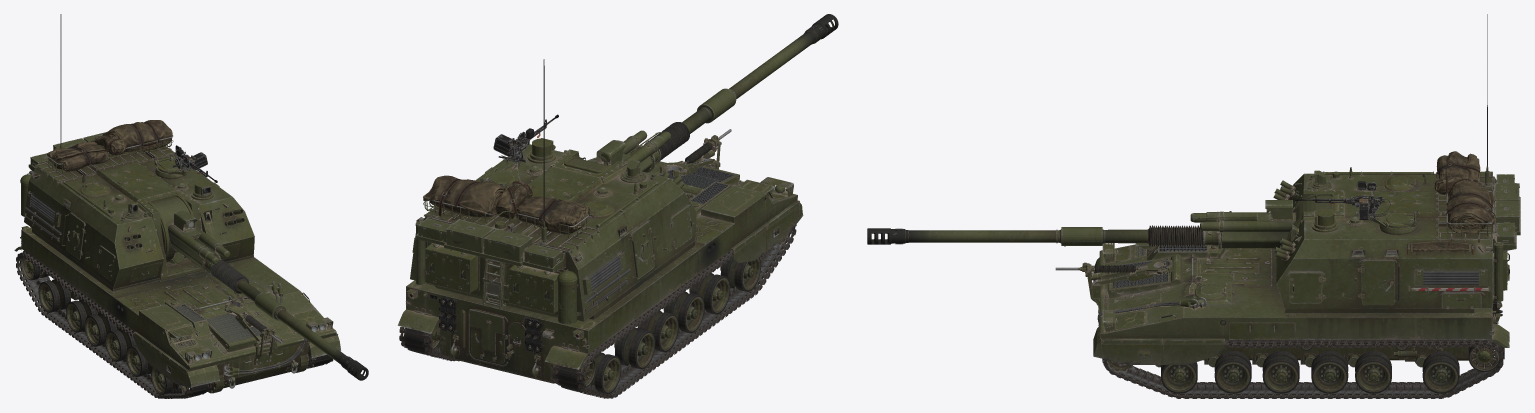
Rendered from PLZ05.obj.
3 renders of one model, left to right at view 1: azimuth 30°, elevation 25°; view 2: azimuth 150°, elevation 25°; view 3: azimuth 270°, elevation 25°, orthographic. The views are drawn at different scales.
Parts seen in each view (by area): view 1: vehicle#bone_turret_24, vehicle#x_root_103, vehicle#track_r_100, vehicle#bone_gun_28, vehicle#gun_barrel_30, vehicle#hatch_02_70, vehicle#ex_decor_l_09_25, vehicle#ex_decor_r_09_33, vehicle#ex_armor_01_92, vehicle#wheel_r_06_12, vehicle#wheel_r_04_23, vehicle#wheel_r_03_16 (+20 smaller); view 2: vehicle#bone_turret_24, vehicle#x_root_103, vehicle#track_r_100, vehicle#gun_barrel_30, vehicle#ex_decor_l_09_25, vehicle#ex_armor_l_02_45, vehicle#bone_gun_28, vehicle#ex_armor_r_02_46, vehicle#ex_decor_r_09_33, vehicle#wheel_r_05_14, vehicle#ex_armor_01_92, vehicle#ex_decor_r_12_50 (+29 smaller); view 3: vehicle#bone_turret_24, vehicle#x_root_103, vehicle#track_l_101, vehicle#bone_gun_28, vehicle#gun_barrel_30, vehicle#ex_decor_l_09_25, vehicle#hatch_02_70, vehicle#ex_armor_01_92, vehicle#ex_decor_l_03_98, vehicle#hatch_14_63, vehicle#ex_decor_l_04_89, vehicle#wheel_l_02_2 (+19 smaller).
Boxes of the visible parts, x1,y1,x2,y2 form: vehicle#bone_turret_24: (24,144,254,291); vehicle#x_root_103: (20,226,336,393); vehicle#track_r_100: (16,251,211,398); vehicle#bone_gun_28: (152,197,230,274); vehicle#gun_barrel_30: (237,280,368,380); vehicle#hatch_02_70: (193,298,269,354); vehicle#ex_decor_l_09_25: (102,120,172,152); vehicle#ex_decor_r_09_33: (47,141,107,171); vehicle#ex_armor_01_92: (224,300,282,365); vehicle#wheel_r_06_12: (38,279,70,312); vehicle#wheel_r_04_23: (84,313,116,346); vehicle#wheel_r_03_16: (105,328,136,361); vehicle#bone_turret_24: (410,138,696,321); vehicle#x_root_103: (405,157,797,383); vehicle#track_r_100: (552,224,796,398); vehicle#gun_barrel_30: (682,14,838,133); vehicle#ex_decor_l_09_25: (423,175,505,217); vehicle#ex_armor_l_02_45: (425,242,479,293); vehicle#bone_gun_28: (568,130,670,172); vehicle#ex_armor_r_02_46: (508,265,560,313); vehicle#ex_decor_r_09_33: (516,196,590,234); vehicle#wheel_r_05_14: (615,327,655,369); vehicle#ex_armor_01_92: (659,129,731,176); vehicle#ex_decor_r_12_50: (483,228,532,262); vehicle#bone_turret_24: (1273,166,1520,313); vehicle#x_root_103: (1092,244,1502,364); vehicle#track_l_101: (1102,340,1504,398); vehicle#bone_gun_28: (1190,195,1396,254); vehicle#gun_barrel_30: (867,227,1362,252); vehicle#ex_decor_l_09_25: (1446,181,1497,233); vehicle#hatch_02_70: (1107,254,1194,298); vehicle#ex_armor_01_92: (1055,259,1173,312); vehicle#ex_decor_l_03_98: (1099,338,1163,364); vehicle#hatch_14_63: (1360,260,1394,305); vehicle#ex_decor_l_04_89: (1162,338,1224,364); vehicle#wheel_l_02_2: (1214,351,1251,393).
Bounding box in the file's own units: 3.32 × 5.81 × 10.62.
Materials: 20 (20 with a texture image).
